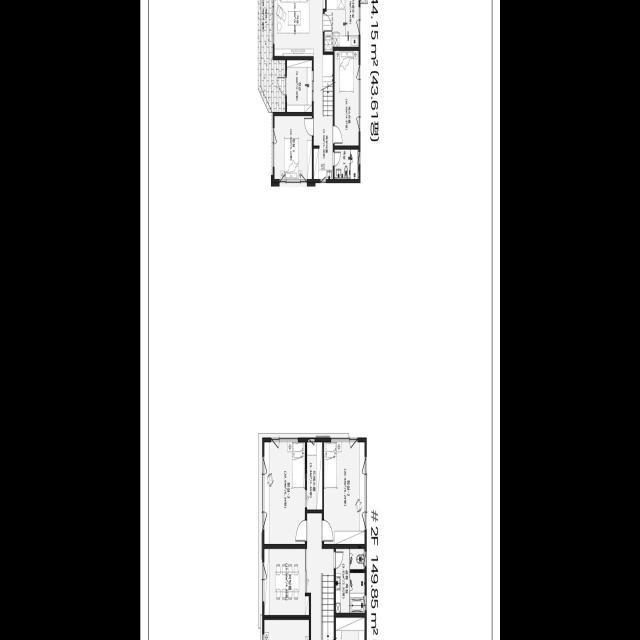background: (140, 0, 500, 640)
space_bedroom: (264, 442, 305, 544), (324, 442, 364, 544), (274, 116, 312, 179), (334, 51, 358, 146)
space_dressroom: (313, 116, 333, 179), (307, 442, 322, 510)
space_front: (287, 60, 312, 112)
space_living_room: (274, 0, 323, 116)
space_multipurpose_space: (324, 0, 358, 52)
space_other: (307, 513, 334, 640), (264, 549, 309, 615)
space_staircase: (321, 573, 333, 640), (322, 55, 332, 116)
space_toilet: (335, 549, 349, 613), (334, 150, 358, 179), (350, 573, 364, 613), (350, 549, 364, 569)
